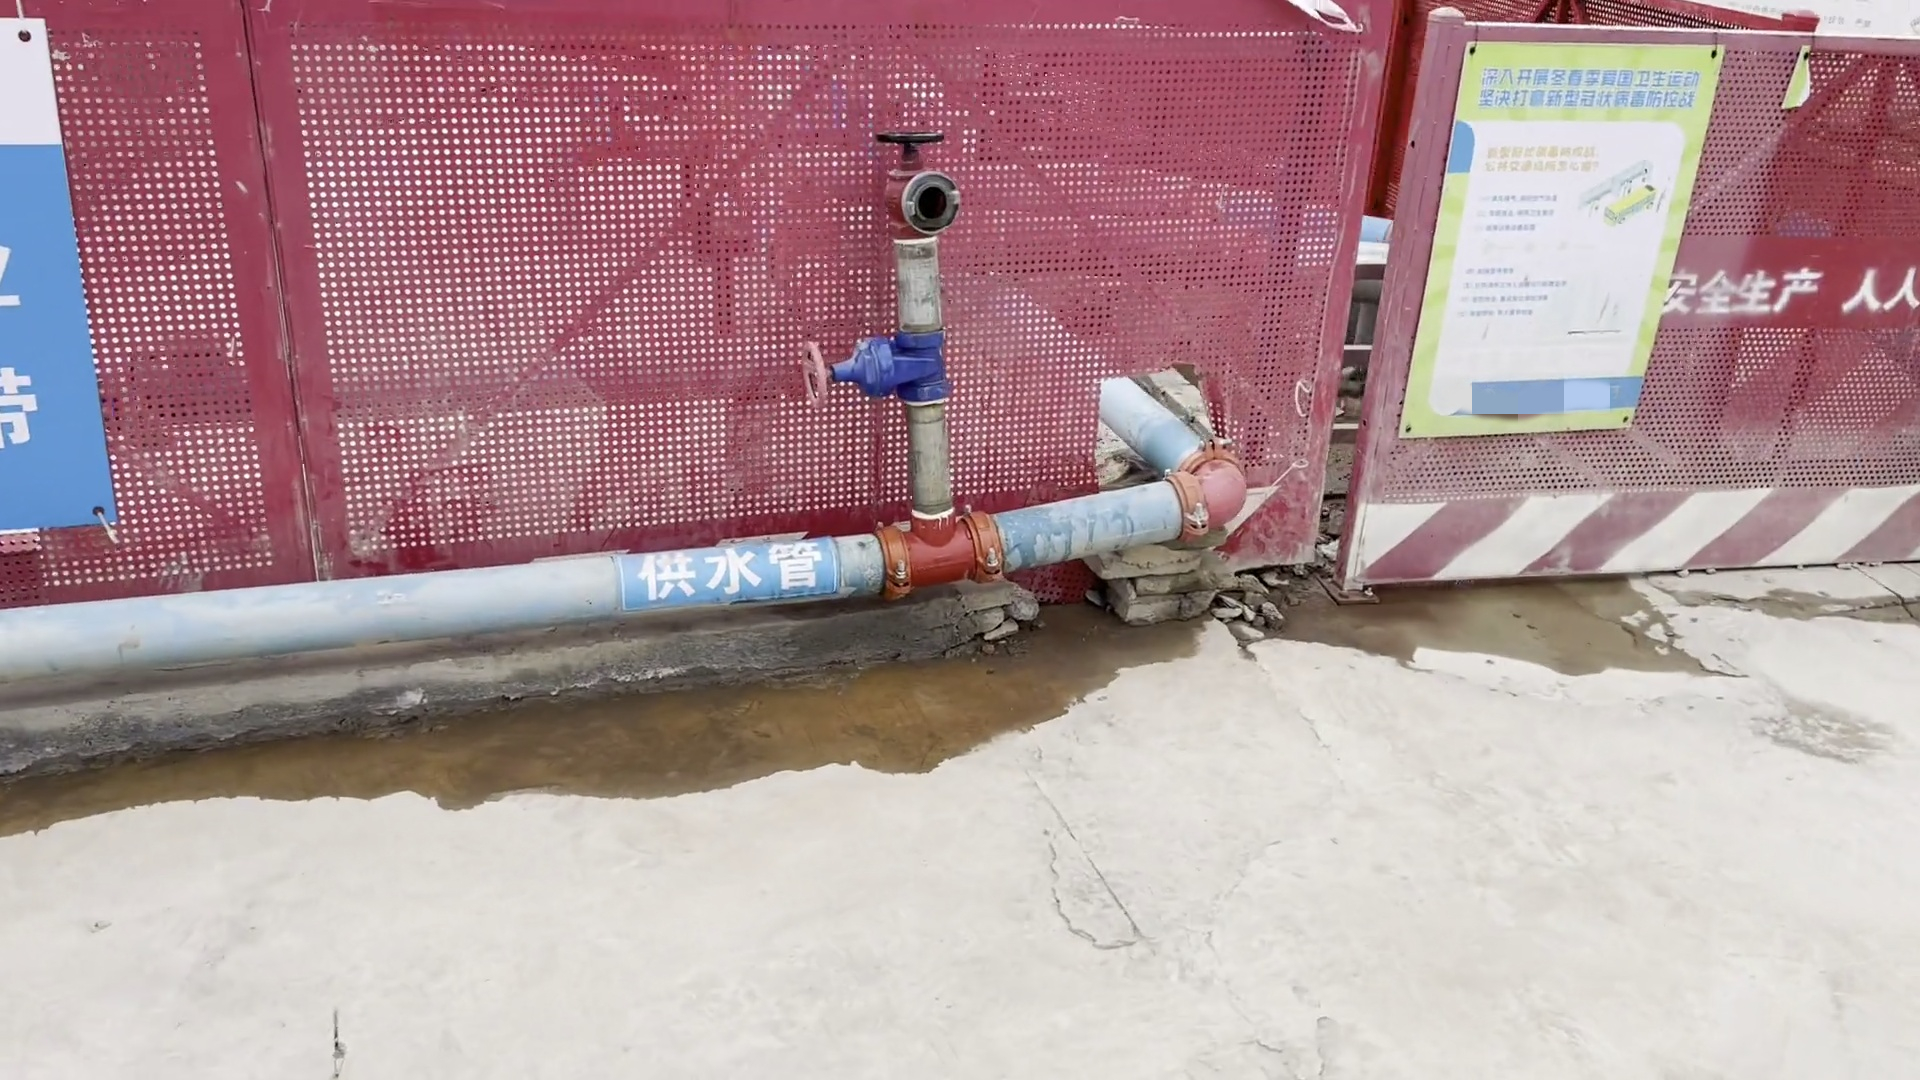fence: (1, 1, 1920, 636)
slogan: (1447, 36, 1691, 436), (1571, 207, 1920, 349)
